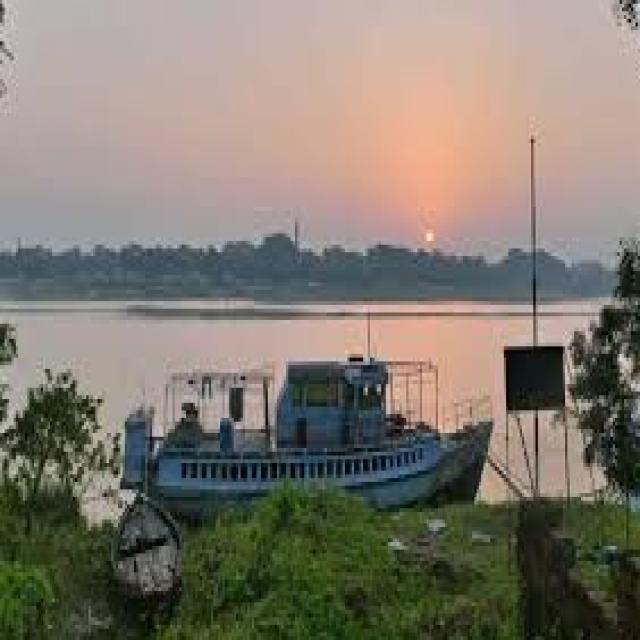fishing boat: (112, 340, 499, 515)
